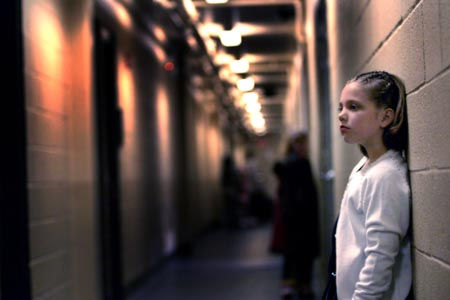person: (335, 72, 413, 300)
